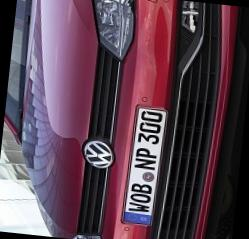plate: (110, 95, 193, 236)
